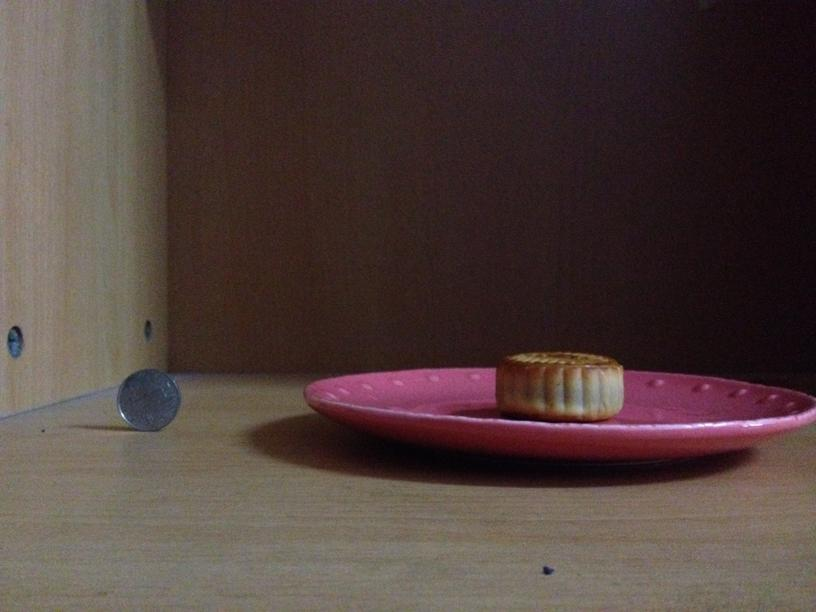coin: (113, 370, 179, 431)
mooncake: (493, 348, 625, 420)
